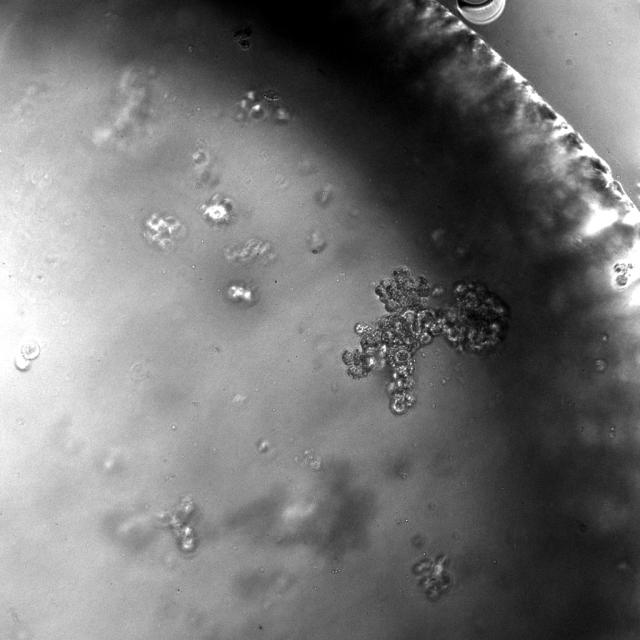organoid: (341, 266, 509, 413), (158, 495, 198, 553), (412, 554, 452, 601), (142, 212, 186, 250), (224, 239, 275, 264), (233, 90, 268, 122), (199, 193, 234, 224), (15, 339, 40, 370), (227, 283, 254, 304), (614, 262, 634, 286), (232, 26, 251, 49)
